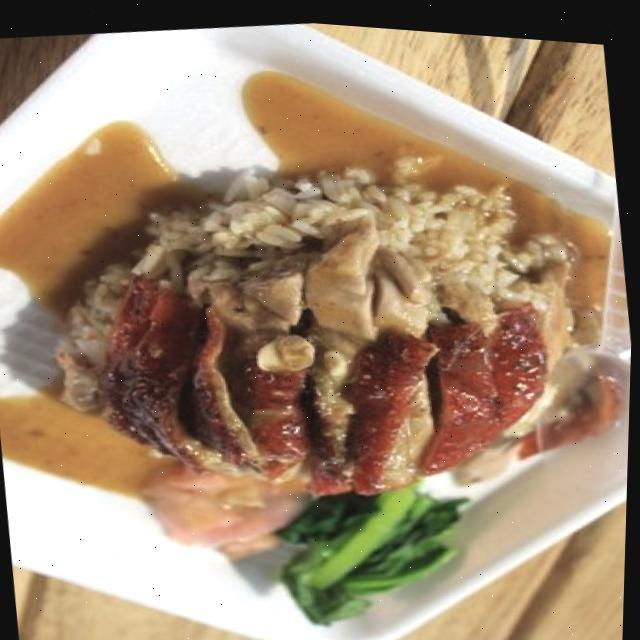米饭主食: (0, 22, 639, 640)
